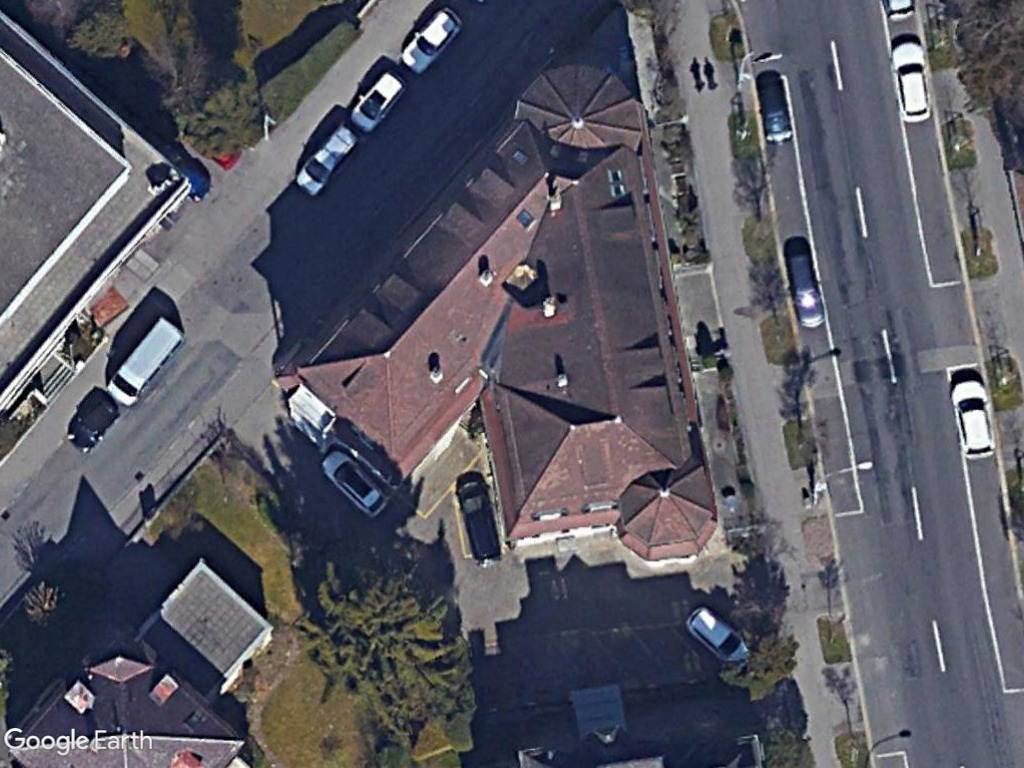car: (315, 449, 394, 518), (293, 120, 361, 195), (398, 4, 466, 76), (686, 606, 754, 669), (951, 377, 1000, 463), (891, 39, 936, 127), (347, 68, 405, 130), (785, 251, 826, 331)
van: (104, 313, 189, 407)
